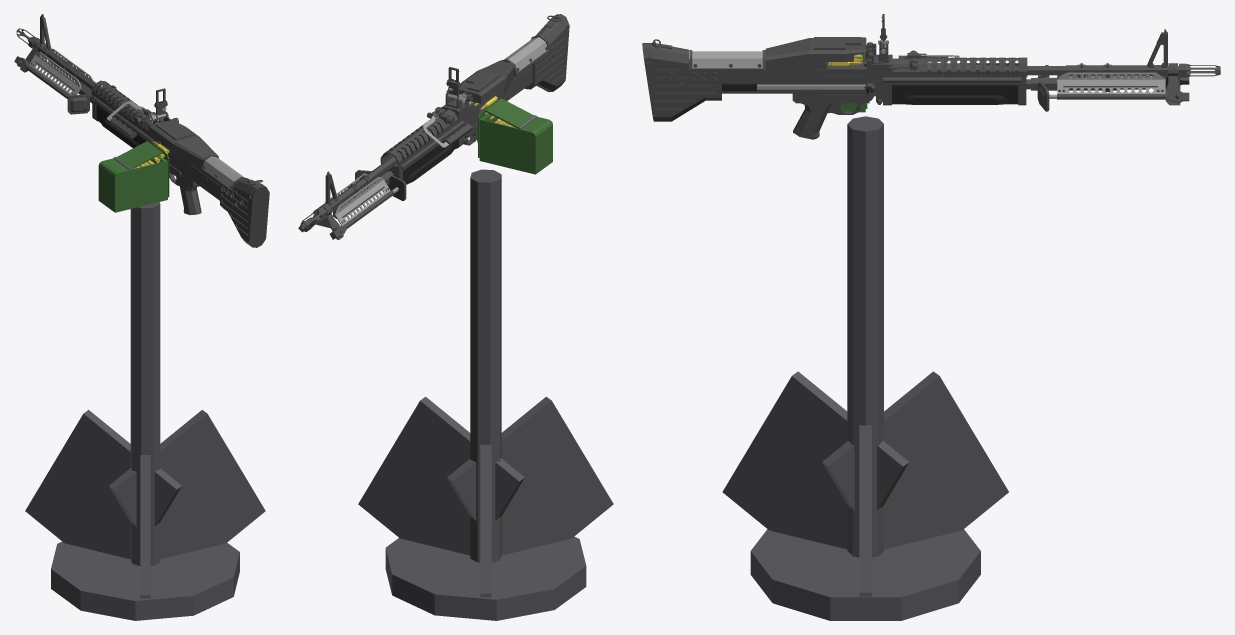
The model's file is m60_pintle.glb.
3 views of the same model, side by side, from view 1: azimuth 30°, elevation 25°; view 2: azimuth 150°, elevation 25°; view 3: azimuth 270°, elevation 25° (orthographic). The views are drawn at different scales.
Parts seen in each view (by area): view 1: m60_pintle, m60; view 2: m60_pintle, m60; view 3: m60_pintle, m60.
Boxes of the visible parts, <box> form: m60_pintle: <box>25,202,265,620</box>; m60: <box>14,14,269,247</box>; m60_pintle: <box>358,169,613,620</box>; m60: <box>298,14,569,239</box>; m60_pintle: <box>722,116,1008,620</box>; m60: <box>642,14,1220,139</box>.
Size of the model in its own units: 0.5188 by 1.23 by 1.11.
